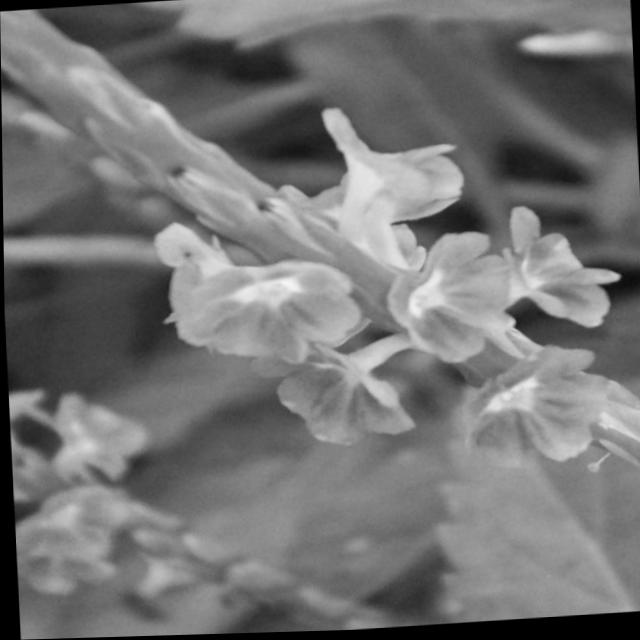Flower: (134, 214, 382, 371), (277, 98, 479, 272), (451, 338, 624, 482), (364, 220, 524, 369), (474, 201, 621, 347), (277, 342, 428, 461), (17, 483, 140, 590)
